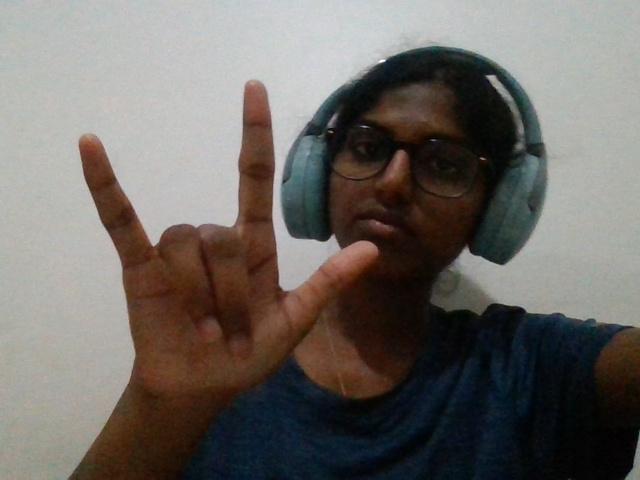I Love You: (30, 65, 390, 451)
